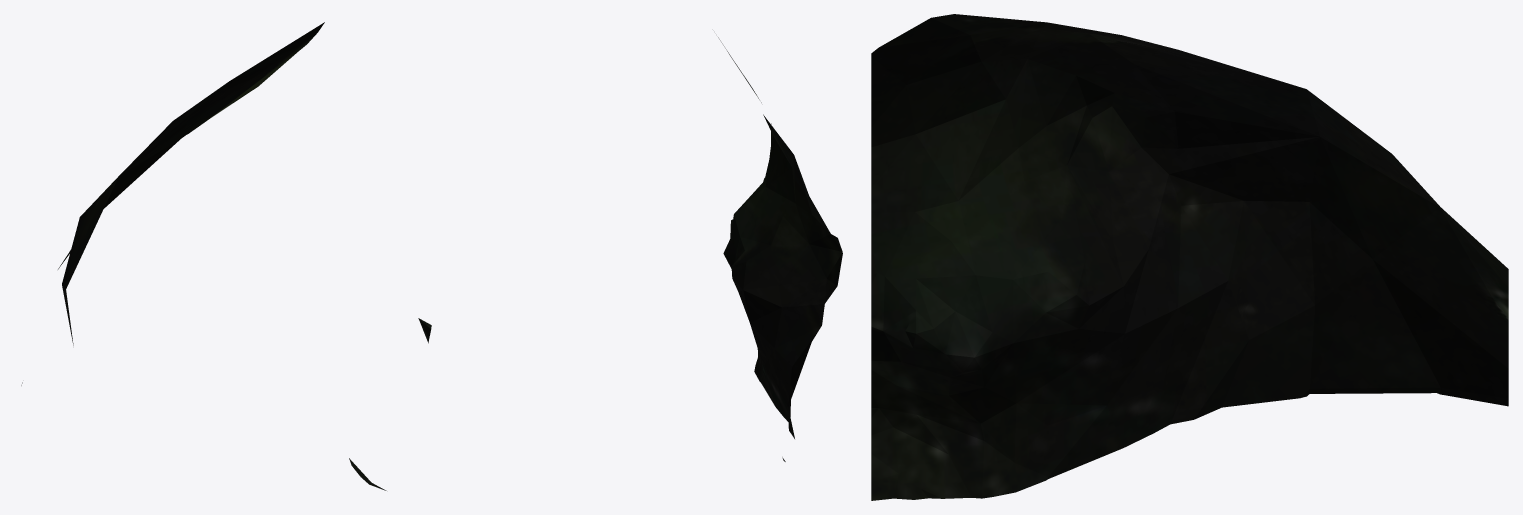
The picture shows the model from 3 angles, left to right: view 1: azimuth 30°, elevation 25°; view 2: azimuth 150°, elevation 25°; view 3: azimuth 270°, elevation 25°; orthographic projection. The views are drawn at different scales.
Size of the model in its own units: 0.5565 by 0.8022 by 0.8373.
Materials: 3 (3 with a texture image).
